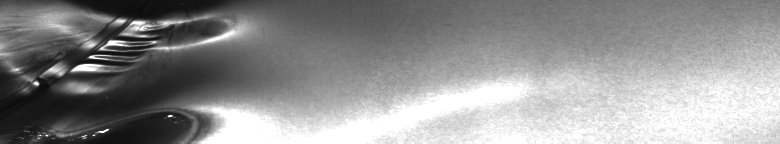ke: (28, 4, 238, 136)
